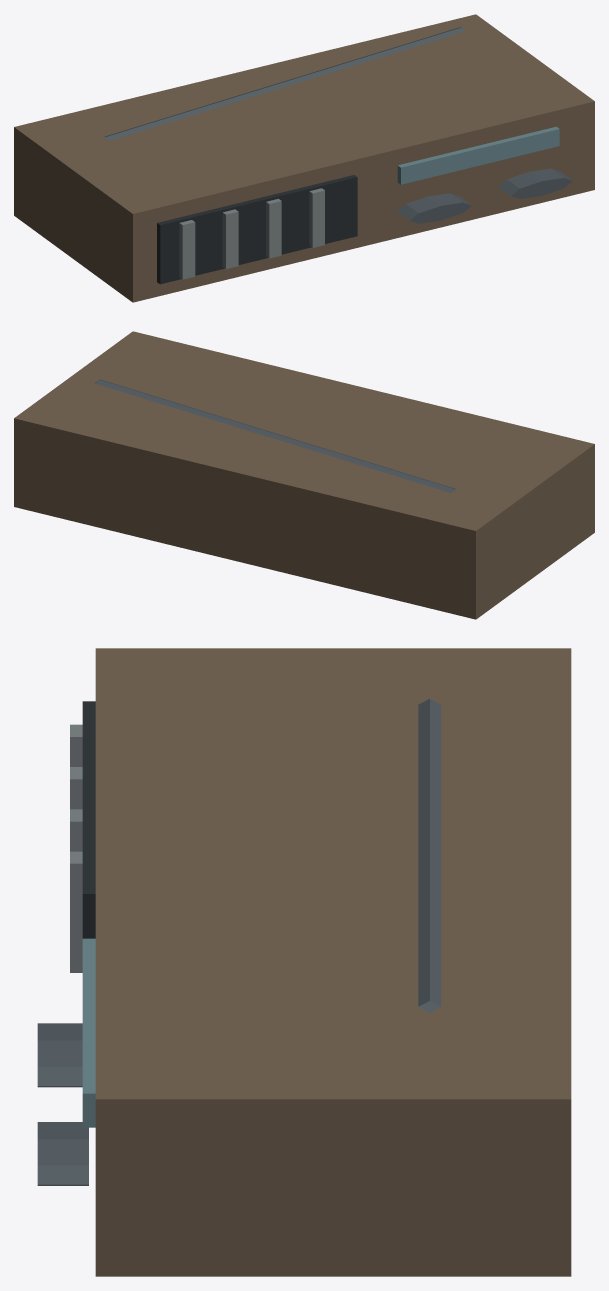
The model's file is radio_set.glb.
The picture shows the model from 3 angles, top to bottom: view 1: azimuth 30°, elevation 25°; view 2: azimuth 150°, elevation 25°; view 3: azimuth 270°, elevation 25°; orthographic projection. The views are drawn at different scales.
Visible parts, largest first — view 1: radio_set; view 2: radio_set; view 3: radio_set.
Part boxes in pixels (x1,y1,x2,y2): radio_set: [14, 14, 594, 302]; radio_set: [14, 331, 594, 619]; radio_set: [37, 648, 571, 1276].
Bounding box in the file's own units: 1.92 × 0.45 × 0.96.
